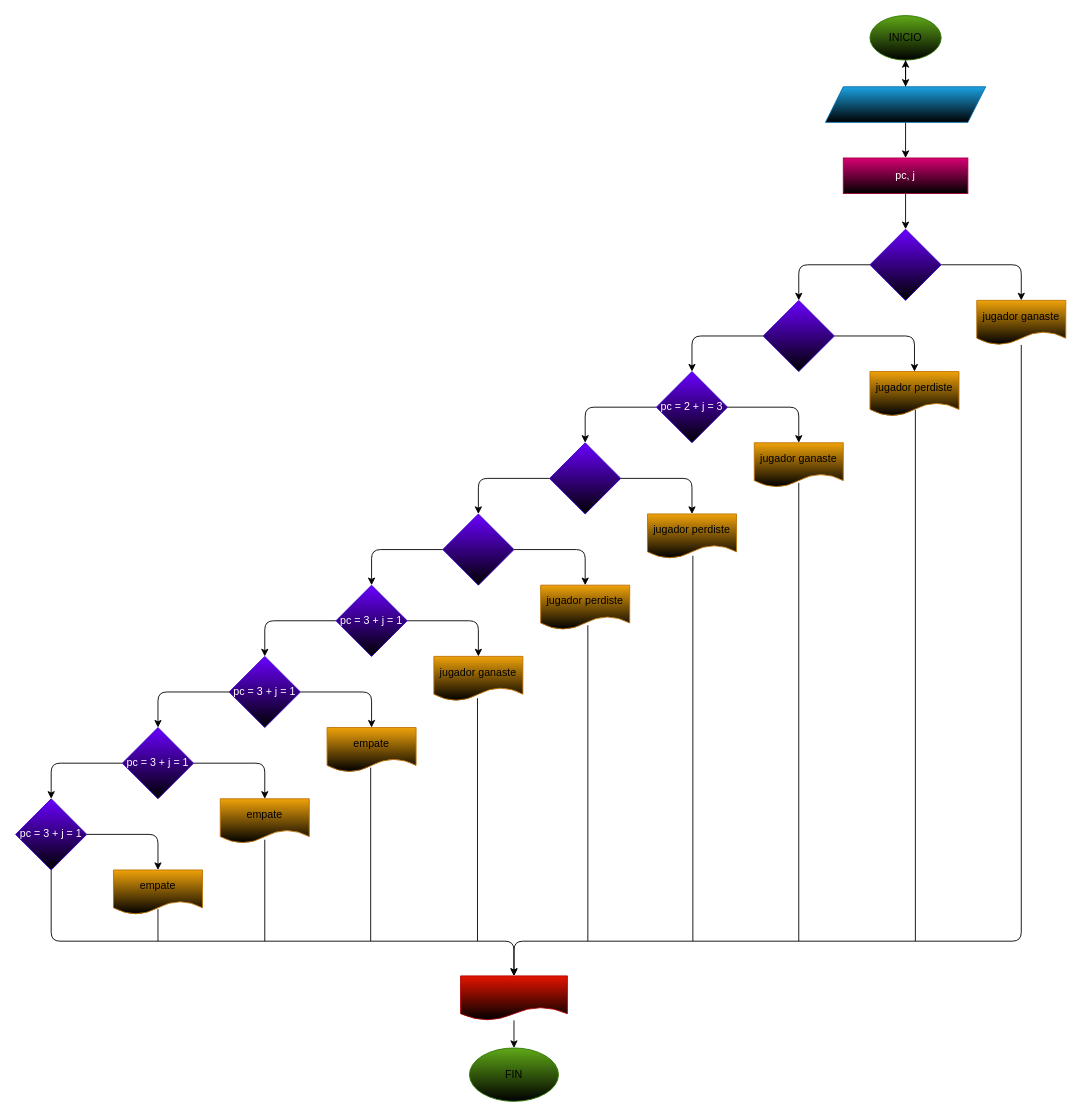
The diagram is 1081 pixels wide and 1117 high, and some of its shapes have lost their labels. The centre of each missing label's shape, as x and y in pixels:
j>3 no valido: the point at 513,997
pc = 1 + j = 2: the point at 905,264
pc = 1 + j = 3: the point at 798,335
pc = 2 + j = 1: the point at 585,478
pc = 3 + j = 2: the point at 478,549
random piedra(1),papel(2).tijera(3): the point at 905,104
